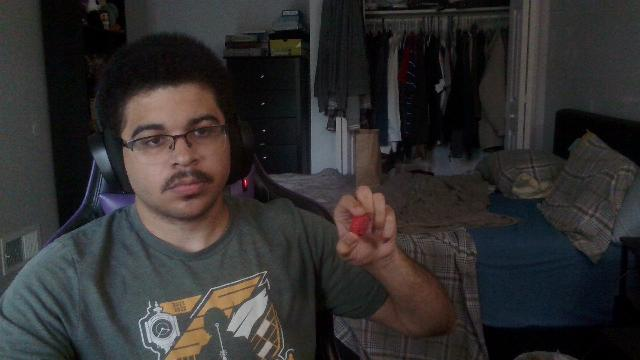cap: (350, 214, 368, 238)
